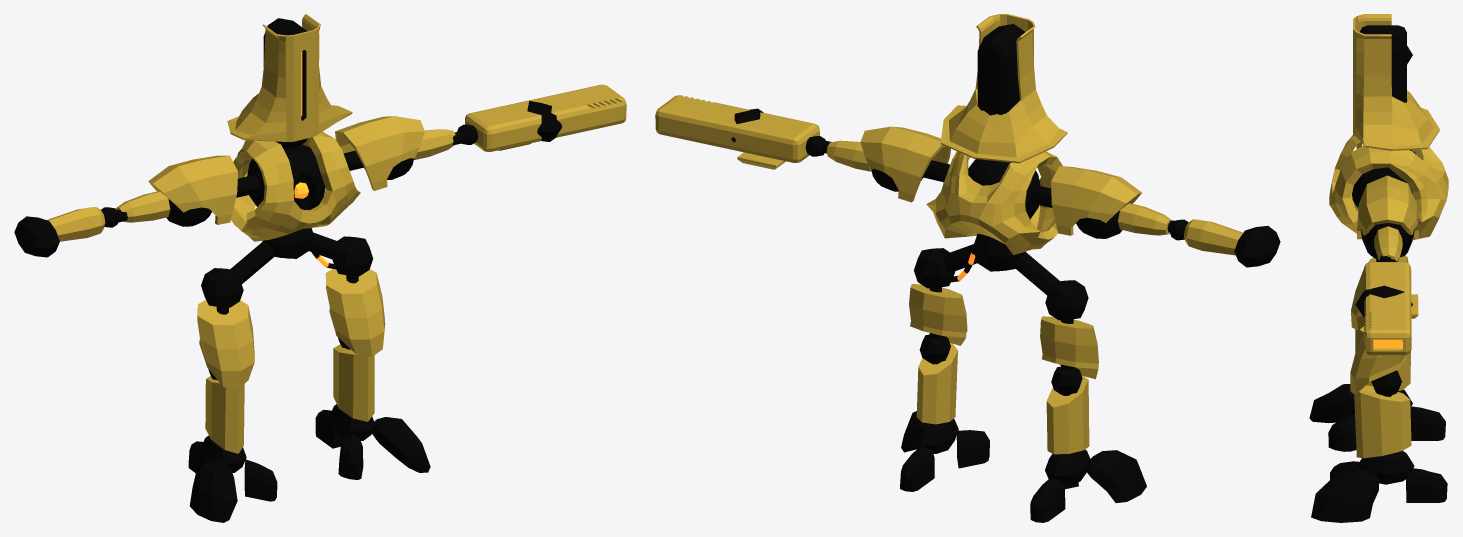
The model's file is shooter_rig.fbx.
3 views of the same model, side by side, from view 1: azimuth 30°, elevation 25°; view 2: azimuth 150°, elevation 25°; view 3: azimuth 270°, elevation 25° (orthographic). The views are drawn at different scales.
Parts seen in each view (by area): view 1: face plate, chest plate, gun, left leg upper plate, right shoulder plate, right leg upper plate, left shoulder plate, left leg lower plate, right leg lower plate, right toe big, chest, left toe big (+16 smaller); view 2: chest plate, face plate, gun, right shoulder plate, left shoulder plate, head, right leg upper plate, right leg lower plate, left leg upper plate, left leg lower plate, right toe big, right arm lower plate (+14 smaller); view 3: face plate, chest plate, gun, left leg lower plate, left toe big, left shoulder plate, left leg upper plate, head, right toe big, left heel, left foot, right heel (+9 smaller).
Part boxes in pixels (left/top/right/bottom): face plate: left=227, top=14, right=352, bottom=141; chest plate: left=231, top=131, right=360, bottom=241; gun: left=465, top=84, right=626, bottom=151; left leg upper plate: left=325, top=269, right=385, bottom=356; right shoulder plate: left=148, top=155, right=237, bottom=224; right leg upper plate: left=197, top=300, right=254, bottom=388; left shoulder plate: left=335, top=116, right=424, bottom=190; left leg lower plate: left=333, top=344, right=374, bottom=421; right leg lower plate: left=205, top=376, right=244, bottom=453; right toe big: left=189, top=460, right=237, bottom=522; chest: left=247, top=144, right=325, bottom=209; left toe big: left=371, top=417, right=430, bottom=472; chest plate: left=926, top=151, right=1062, bottom=255; face plate: left=940, top=14, right=1067, bottom=163; gun: left=655, top=95, right=819, bottom=169; right shoulder plate: left=1051, top=166, right=1141, bottom=235; left shoulder plate: left=860, top=126, right=950, bottom=202; head: left=977, top=24, right=1024, bottom=115; right leg upper plate: left=1040, top=316, right=1098, bottom=379; right leg lower plate: left=1046, top=376, right=1089, bottom=454; left leg upper plate: left=909, top=284, right=967, bottom=345; left leg lower plate: left=916, top=343, right=957, bottom=424; right toe big: left=1086, top=450, right=1146, bottom=502; right arm lower plate: left=1184, top=219, right=1242, bottom=255; face plate: left=1353, top=14, right=1439, bottom=150; chest plate: left=1329, top=134, right=1448, bottom=240; gun: left=1364, top=262, right=1418, bottom=355; left leg lower plate: left=1354, top=385, right=1411, bottom=458; left toe big: left=1311, top=469, right=1379, bottom=522; left shoulder plate: left=1356, top=175, right=1418, bottom=239; left leg upper plate: left=1350, top=331, right=1406, bottom=394; head: left=1360, top=25, right=1406, bottom=102; right toe big: left=1309, top=384, right=1354, bottom=422; left heel: left=1406, top=468, right=1447, bottom=502; left foot: left=1357, top=451, right=1414, bottom=484; right heel: left=1410, top=406, right=1445, bottom=440.
Bounding box in the file's own units: 3201 × 2291 × 651.
